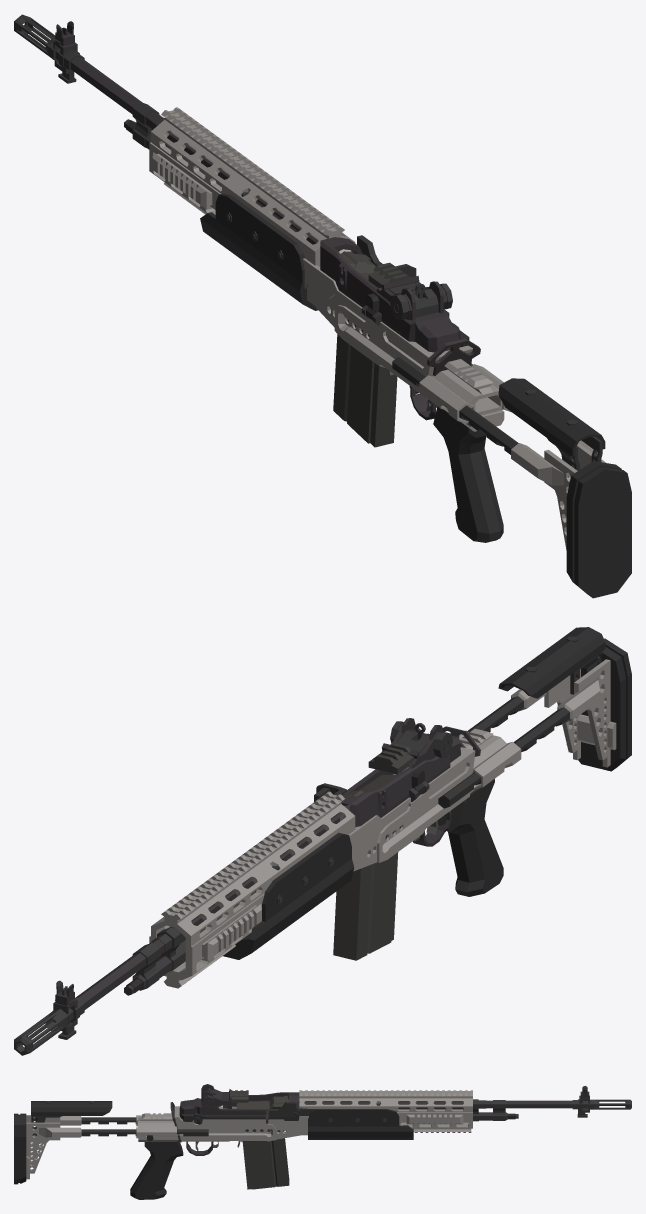
3 renders of one model, top to bottom at view 1: azimuth 30°, elevation 25°; view 2: azimuth 150°, elevation 25°; view 3: azimuth 270°, elevation 25°, orthographic. The views are drawn at different scales.
Bounding box in the file's own units: 0.0806 × 0.195 × 1.
Materials: 1 (1 with a texture image).
